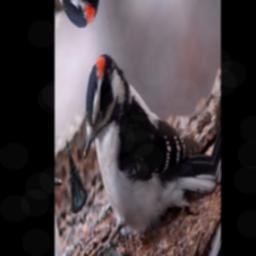Woodpecker: (66, 0, 217, 256)
